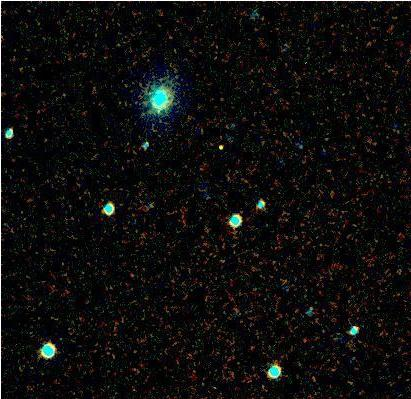star: (203, 131, 233, 161)
